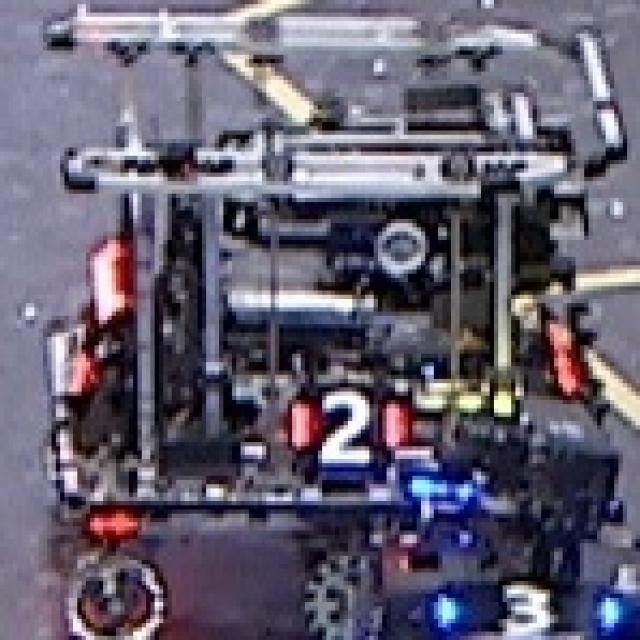R2: (288, 388, 404, 468)
